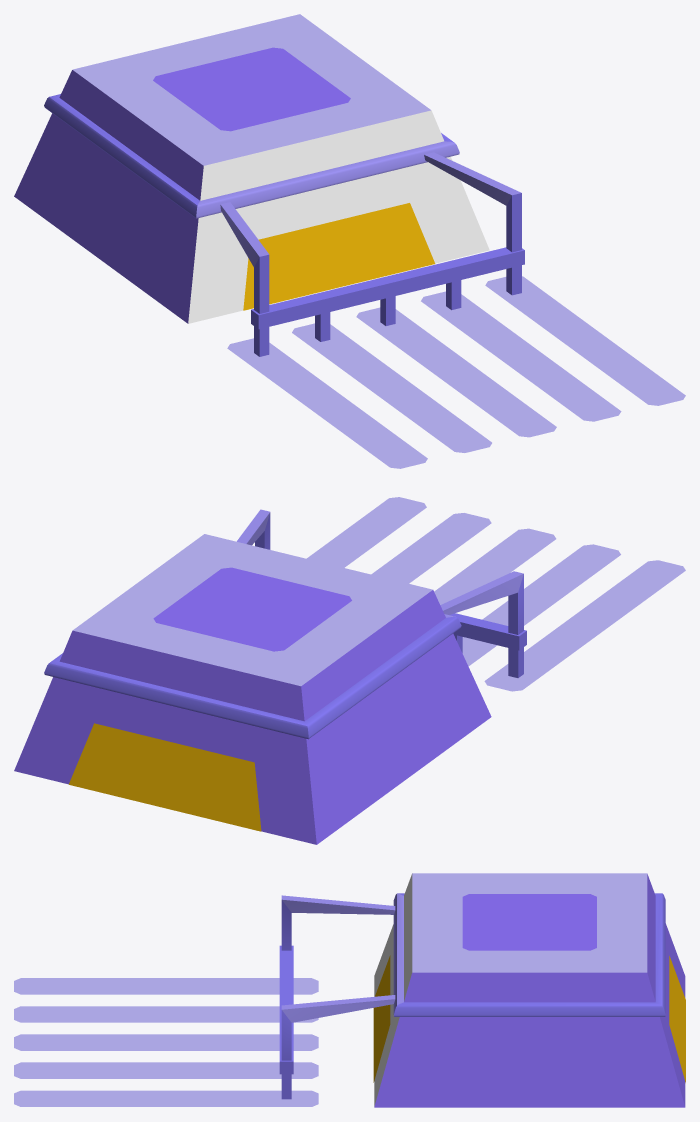
Rendered from Building_06.fbx.
The picture shows the model from 3 angles, top to bottom: view 1: azimuth 30°, elevation 25°; view 2: azimuth 150°, elevation 25°; view 3: azimuth 270°, elevation 25°; orthographic projection. The views are drawn at different scales.
Visible parts, largest first — view 1: Building_06; view 2: Building_06; view 3: Building_06.
Part boxes in pixels (box(x1,y1,x2,y2)): Building_06: box(14, 14, 685, 468); Building_06: box(14, 497, 685, 844); Building_06: box(14, 873, 685, 1107).
Size of the model in its own units: 98.77 by 42.63 by 213.
